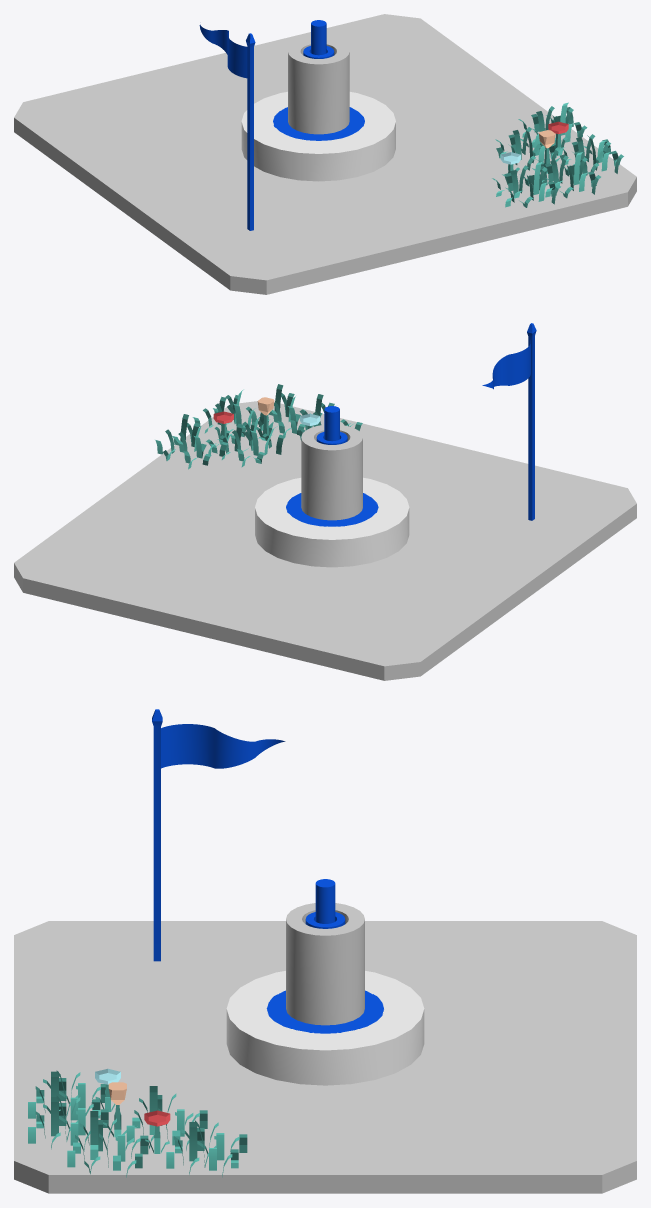
The model's file is placevillage5.fbx.
3 views of the same model, one above another, from view 1: azimuth 30°, elevation 25°; view 2: azimuth 150°, elevation 25°; view 3: azimuth 270°, elevation 25° (orthographic). The views are drawn at different scales.
Visible parts, largest first — view 1: floor_square_1, cylinder_hollow_9, cylinder_hollow_13, detail_flagPoint%_2, grass_dense_22, grass_dense_21, cylinder_hollow_11, grass_dense_25, grass_dense_18, grass_dense_23, cylinder_full_10; view 2: floor_square_1, cylinder_hollow_9, cylinder_hollow_13, detail_flagPoint%_2, grass_dense_23, cylinder_hollow_11, grass_dense_18, grass_dense_21, grass_dense_25, cylinder_full_10; view 3: floor_square_1, cylinder_hollow_9, cylinder_hollow_13, detail_flagPoint%_2, grass_dense_25, cylinder_hollow_11, grass_dense_23, grass_dense_21, grass_dense_22, grass_dense_18, cylinder_full_10.
Part boxes in pixels (x1,y1,x2,y2): floor_square_1: (14,14,636,294); cylinder_hollow_9: (241,91,395,181); cylinder_hollow_13: (288,38,349,134); detail_flagPoint%_2: (199,24,255,230); grass_dense_22: (492,162,560,207); grass_dense_21: (532,152,600,198); cylinder_hollow_11: (273,107,364,140); grass_dense_25: (559,134,623,173); grass_dense_18: (495,127,560,170); grass_dense_23: (518,102,587,147); cylinder_full_10: (311,20,326,55); floor_square_1: (14,401,636,680); cylinder_hollow_9: (255,477,409,567); cylinder_hollow_13: (301,424,362,520); detail_flagPoint%_2: (482,323,536,520); grass_dense_23: (155,414,228,469); cylinder_hollow_11: (286,493,378,526); grass_dense_18: (209,416,284,467); grass_dense_21: (249,384,322,438); grass_dense_25: (192,389,264,436); cylinder_full_10: (324,406,339,441); floor_square_1: (14,921,636,1193); cylinder_hollow_9: (226,971,424,1085); cylinder_hollow_13: (286,903,364,1025); detail_flagPoint%_2: (152,709,285,961); grass_dense_25: (67,1111,148,1177); cylinder_hollow_11: (266,990,383,1033); grass_dense_23: (166,1120,247,1177); grass_dense_21: (28,1095,108,1151); grass_dense_22: (28,1070,105,1120); grass_dense_18: (126,1086,207,1150); cylinder_full_10: (315,879,335,923).
Size of the model in its own units: 30.73 by 15 by 31.5.
